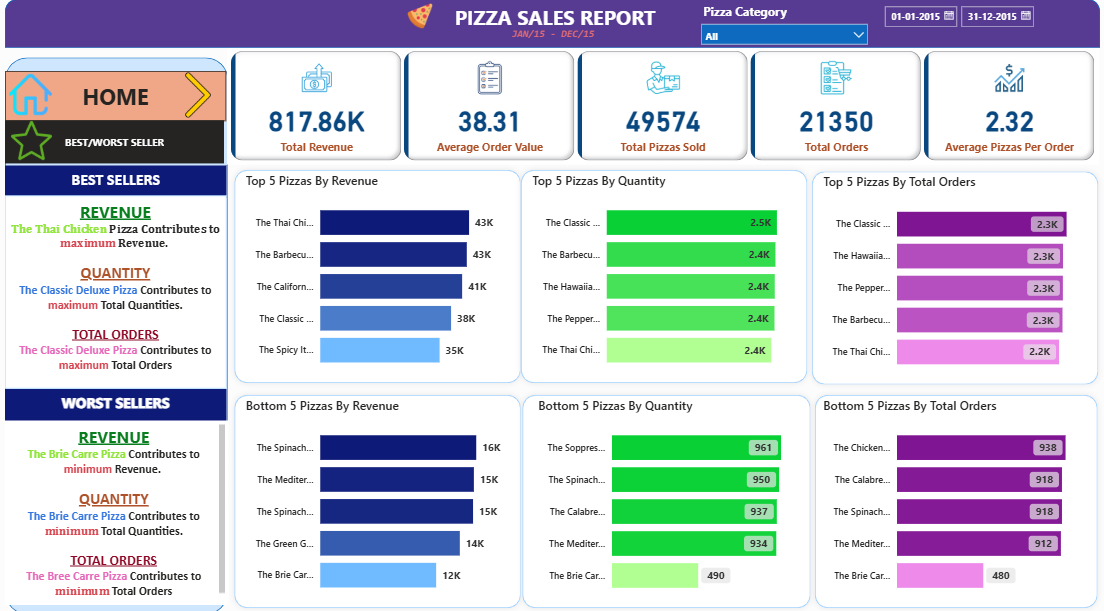

What the dashboard file says about the page in this screenshot:
{"tool":"powerbi","page":{"name":"BEST/WORST  SELLER","canvas":[1500,820],"ordinal":1},"visuals":[{"type":"shape","box":[20,77.5,297.5,742.5],"z":0},{"type":"textbox","box":[20,222.5,295,42.5],"z":1000},{"type":"cardVisual","fields":{"Data":["pizza_sales.Total Revenue","pizza_sales.Average Order Value","pizza_sales.Total Pizzas Sold","pizza_sales.Total Orders","pizza_sales.Average Pizzas Per Order"]},"box":[315.6,64.6,1162.9,156.9],"z":2000},{"type":"shape","box":[20,0,1460,65],"z":3000},{"type":"textbox","box":[585,0,335,45],"z":4000},{"type":"textbox","box":[682.5,30,137.5,32.5],"z":5000},{"type":"image","box":[547.5,0,50,45],"z":6000},{"type":"shape","box":[317.5,520,397.5,300],"z":7000},{"type":"shape","box":[701.7,520,400,300],"z":8000},{"type":"shape","box":[1092.5,520,392.5,300],"z":9000},{"type":"textbox","box":[20,262.5,295,257.5],"z":10000},{"type":"textbox","box":[20,520,295,42.5],"z":11000},{"type":"textbox","box":[20,562,298,246],"z":12000},{"type":"slicer","fields":{"Values":["pizza_sales.pizza_category"]},"box":[937.5,0,242.5,62.5],"z":13000},{"type":"slicer","fields":{"Values":["pizza_sales.order_date"]},"box":[1180,0,242,66],"z":14000},{"type":"shape","box":[317.5,220,397.5,300],"z":15000},{"type":"shape","box":[1087.5,222.5,397.5,300],"z":16000},{"type":"shape","box":[700,220,397.5,300],"z":17000},{"type":"barChart","title":"Top 5 Pizzas By Revenue","fields":{"Category":["pizza_sales.pizza_name"],"Y":["pizza_sales.Total Revenue"]},"box":[335,230,362.5,277.5],"z":18000},{"type":"barChart","title":"Bottom 5 Pizzas By Revenue","fields":{"Category":["pizza_sales.pizza_name"],"Y":["pizza_sales.Total Revenue"]},"box":[335,530,362.5,277.5],"z":19000},{"type":"barChart","title":"Top 5 Pizzas By Quantity","fields":{"Category":["pizza_sales.pizza_name"],"Y":["pizza_sales.Total Pizzas Sold"]},"box":[717.5,230,362.5,277.5],"z":20000},{"type":"barChart","title":"Bottom 5 Pizzas By Quantity","fields":{"Category":["pizza_sales.pizza_name"],"Y":["pizza_sales.Total Pizzas Sold"]},"box":[726,530,362,278],"z":20001},{"type":"barChart","title":"Top 5 Pizzas By Total Orders","fields":{"Category":["pizza_sales.pizza_name"],"Y":["pizza_sales.Total Orders"]},"box":[1106,232,362,278],"z":20002},{"type":"barChart","title":"Bottom 5 Pizzas By Total Orders","fields":{"Category":["pizza_sales.pizza_name"],"Y":["pizza_sales.Total Orders"]},"box":[1106,530,362,278],"z":20003},{"type":"pageNavigator","box":[20,95,295,67.5],"z":20004},{"type":"pageNavigator","box":[20,162.5,292.5,57.5],"z":20005},{"type":"image","box":[242.5,92.5,70,72.5],"z":20006},{"type":"image","box":[20,92.5,67.5,70],"z":20007},{"type":"image","box":[20,155,70,65],"z":20008}]}

Visuals, with their boxes in screenshot pixels (x1, y1, x2, y2), scaled from the page's 1500x820 canvas onto the 1104x611 screenshot:
shape: bbox=(15, 58, 234, 610)
textbox: bbox=(15, 166, 232, 197)
cardVisual - pizza_sales.Total Revenue x pizza_sales.Average Order Value: bbox=(232, 48, 1088, 165)
shape: bbox=(15, 0, 1089, 48)
textbox: bbox=(431, 0, 677, 34)
textbox: bbox=(502, 22, 604, 47)
image: bbox=(403, 0, 440, 34)
shape: bbox=(234, 387, 526, 610)
shape: bbox=(516, 387, 811, 610)
shape: bbox=(804, 387, 1093, 610)
textbox: bbox=(15, 196, 232, 387)
textbox: bbox=(15, 387, 232, 419)
textbox: bbox=(15, 419, 234, 602)
slicer - pizza_sales.pizza_category: bbox=(690, 0, 868, 47)
slicer - pizza_sales.order_date: bbox=(868, 0, 1047, 49)
shape: bbox=(234, 164, 526, 387)
shape: bbox=(800, 166, 1093, 389)
shape: bbox=(515, 164, 808, 387)
"Top 5 Pizzas By Revenue" barChart: bbox=(247, 171, 513, 378)
"Bottom 5 Pizzas By Revenue" barChart: bbox=(247, 395, 513, 602)
"Top 5 Pizzas By Quantity" barChart: bbox=(528, 171, 795, 378)
"Bottom 5 Pizzas By Quantity" barChart: bbox=(534, 395, 801, 602)
"Top 5 Pizzas By Total Orders" barChart: bbox=(814, 173, 1080, 380)
"Bottom 5 Pizzas By Total Orders" barChart: bbox=(814, 395, 1080, 602)
pageNavigator: bbox=(15, 71, 232, 121)
pageNavigator: bbox=(15, 121, 230, 164)
image: bbox=(178, 69, 230, 123)
image: bbox=(15, 69, 64, 121)
image: bbox=(15, 115, 66, 164)
